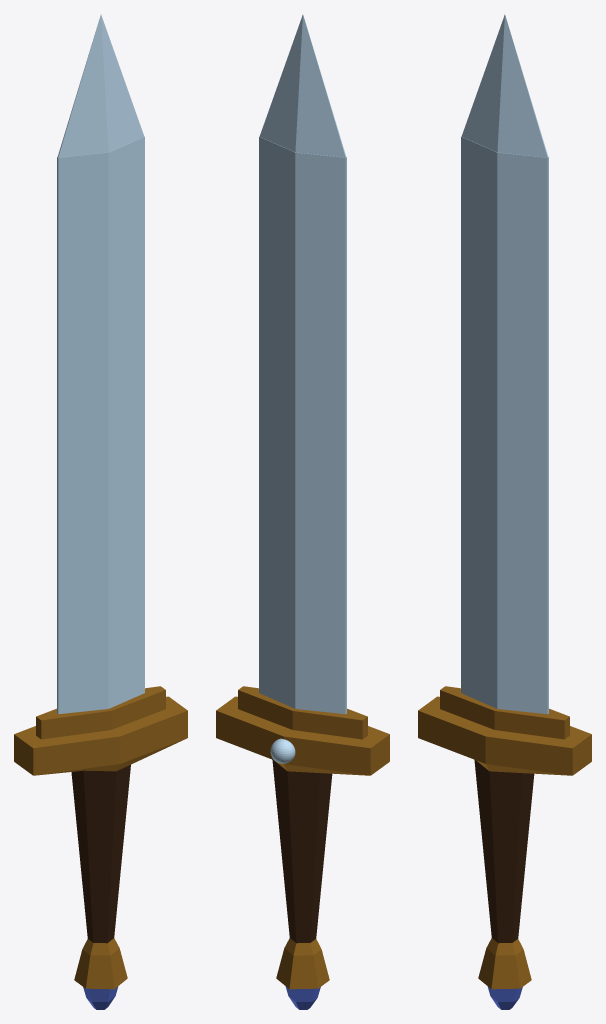
The model's file is basic-sword 1.fbx.
3 views of the same model, side by side, from view 1: azimuth 30°, elevation 25°; view 2: azimuth 150°, elevation 25°; view 3: azimuth 330°, elevation 25° (orthographic).
Parts seen in each view (by area): view 1: 0-sword; view 2: 0-sword; view 3: 0-sword.
Boxes of the visible parts, x1,y1,x2,y2 form: 0-sword: (14, 14, 187, 1009); 0-sword: (216, 14, 389, 1009); 0-sword: (418, 14, 591, 1009).
Size of the model in its own units: 464 by 2848 by 235.
